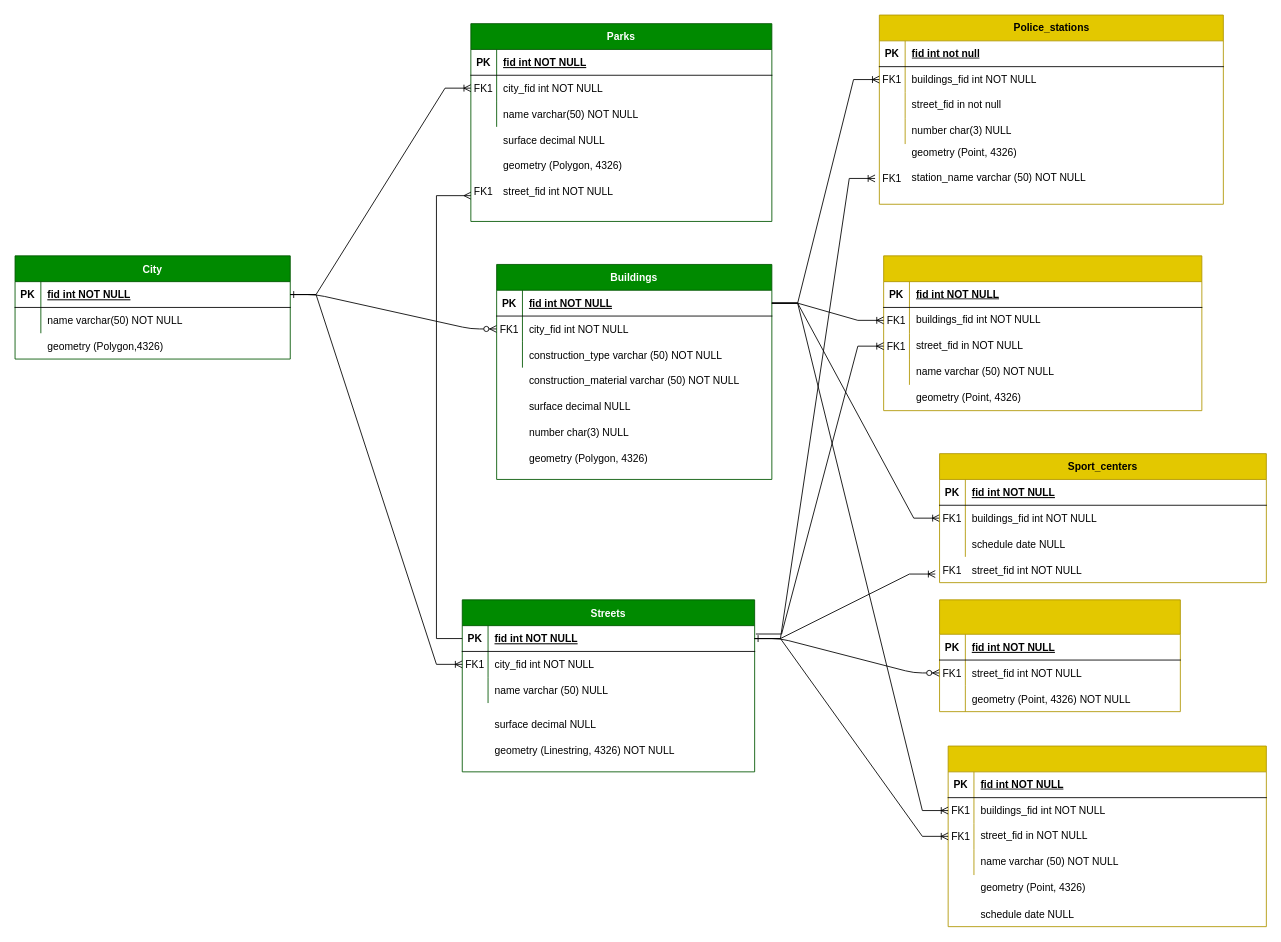
Some shapes in this 1281 by 942 pixel diagram are drawn without their labels. Here are the shapes that lost their labels. From the top down, the box of each, then its label:
(883, 255, 1202, 411): Hospital
(939, 599, 1180, 712): Trees
(947, 745, 1266, 927): turistic_atractions
